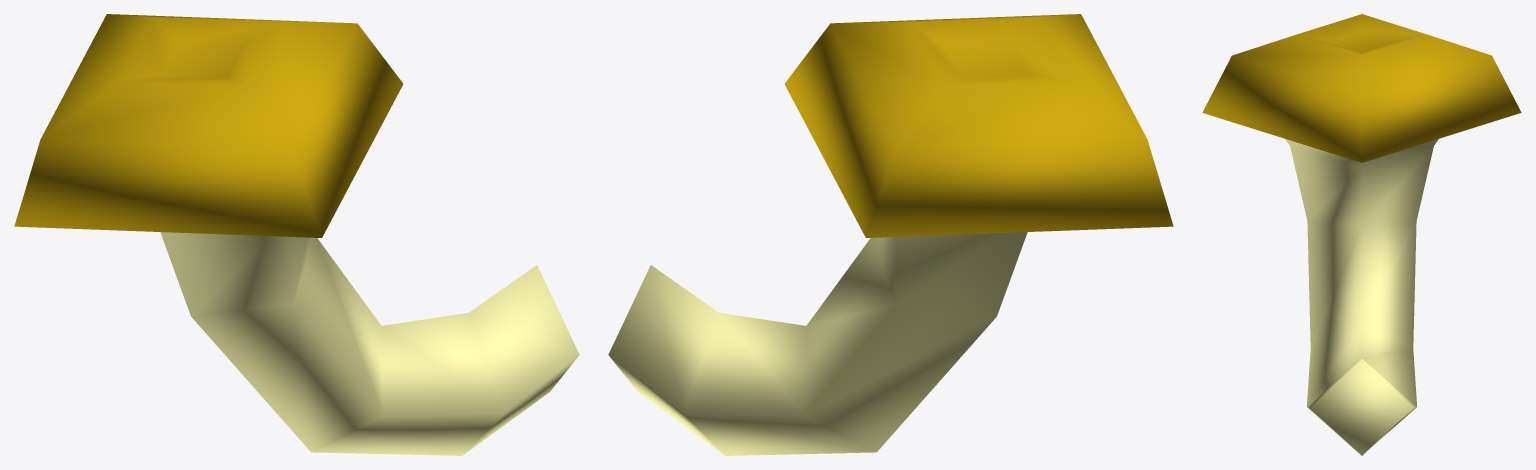
File: fungus yellow tiny.obj
The picture shows the model from 3 angles, left to right: view 1: azimuth 30°, elevation 25°; view 2: azimuth 150°, elevation 25°; view 3: azimuth 270°, elevation 25°; orthographic projection. The views are drawn at different scales.
Visible parts, largest first — view 1: fungo.010; view 2: fungo.010; view 3: fungo.010.
Boxes of the visible parts, left/top/right/bottom form: fungo.010: left=14, top=14, right=579, bottom=455; fungo.010: left=608, top=14, right=1173, bottom=455; fungo.010: left=1202, top=14, right=1521, bottom=455.
Bounding box in the file's own units: 0.428 × 0.3652 × 0.3132.
